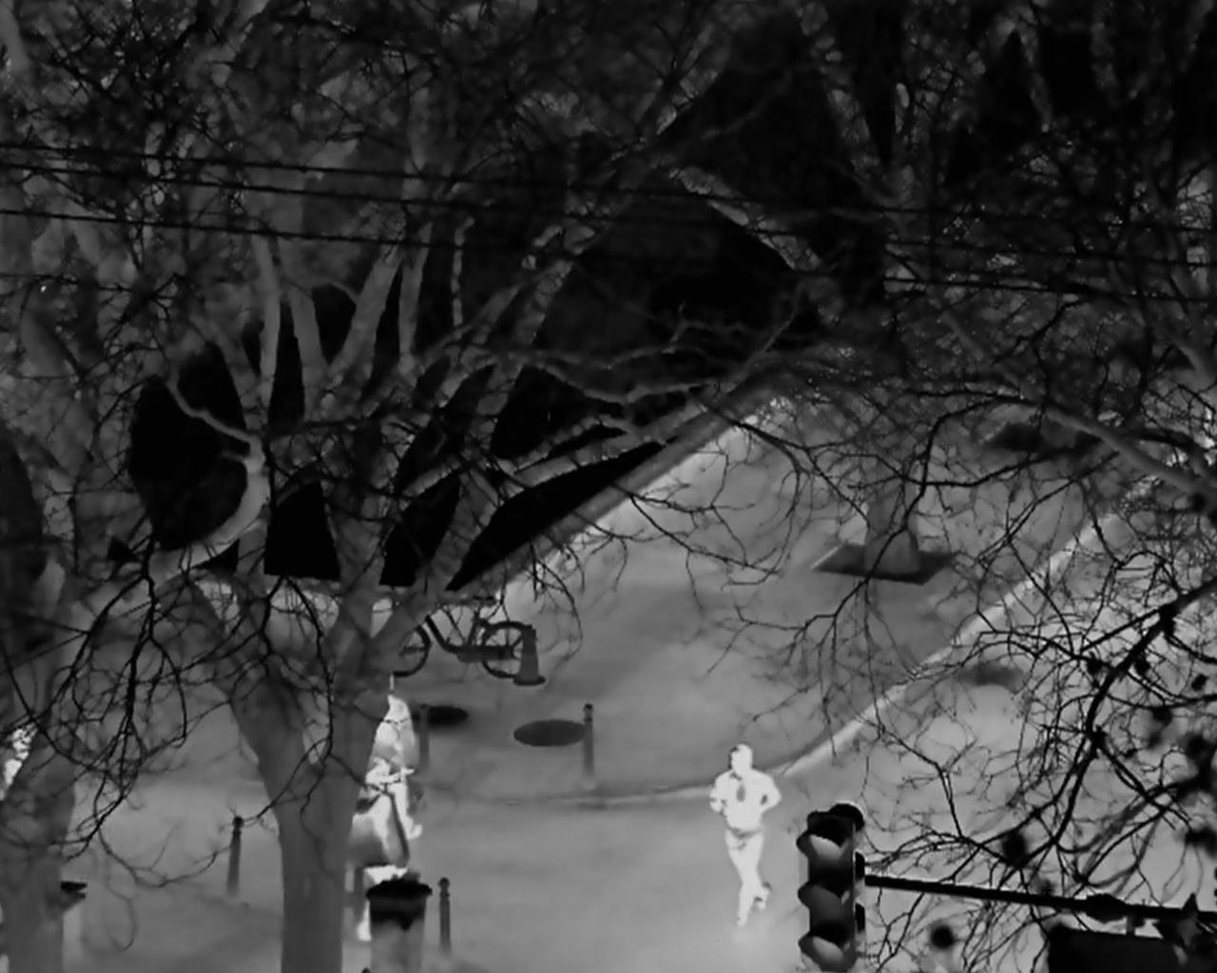person: (708, 742, 782, 928), (369, 673, 423, 842), (351, 754, 411, 885)
